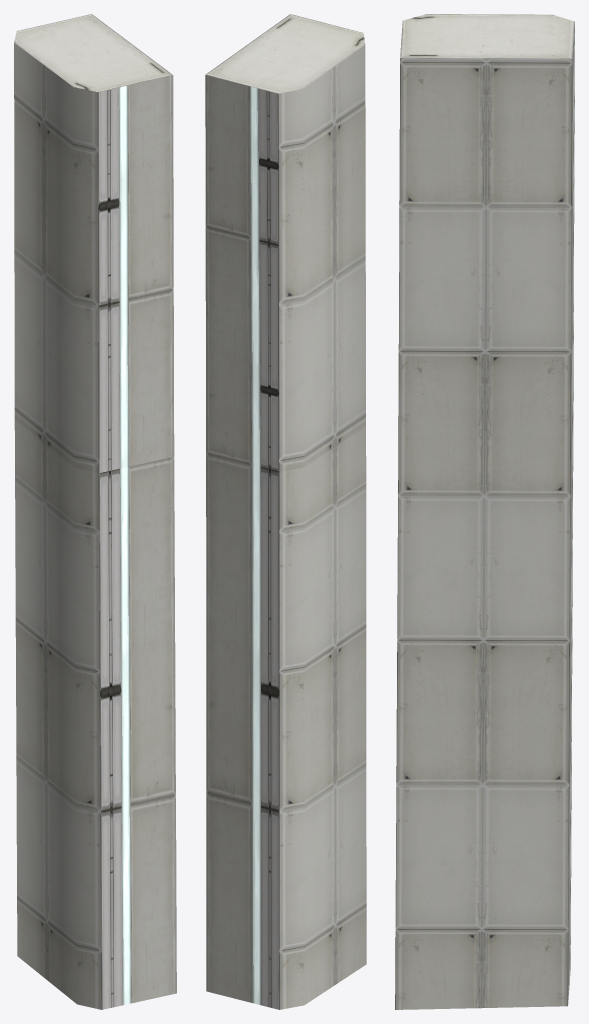
The model's file is STA20_keeperbeam.FBX.
The picture shows the model from 3 angles, left to right: view 1: azimuth 30°, elevation 25°; view 2: azimuth 150°, elevation 25°; view 3: azimuth 270°, elevation 25°; orthographic projection. The views are drawn at different scales.
Visible parts, largest first — view 1: STA20_keeperbeam; view 2: STA20_keeperbeam; view 3: STA20_keeperbeam.
Part boxes in pixels (<box>): STA20_keeperbeam: <box>14,14,176,1009</box>; STA20_keeperbeam: <box>205,14,366,1009</box>; STA20_keeperbeam: <box>395,14,574,1009</box>.
Bounding box in the file's own units: 1.18 × 11.54 × 1.98.
